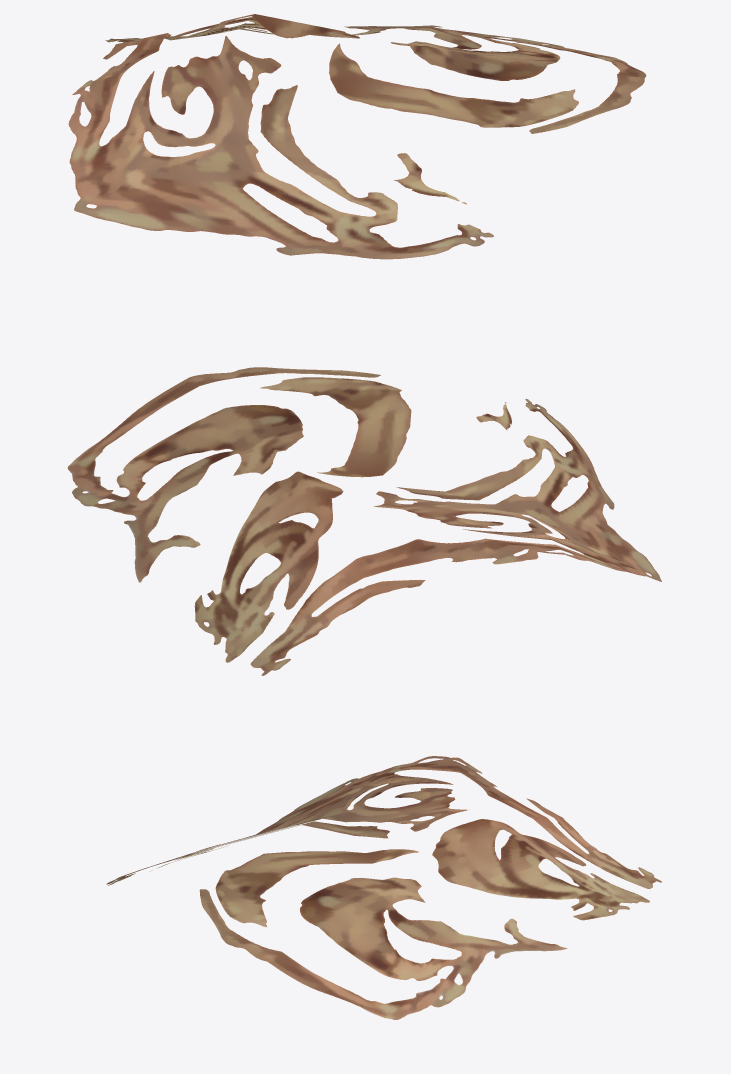
File: lairKvar02.fbx
The picture shows the model from 3 angles, top to bottom: view 1: azimuth 30°, elevation 25°; view 2: azimuth 150°, elevation 25°; view 3: azimuth 270°, elevation 25°; orthographic projection. The views are drawn at different scales.
Parts seen in each view (by area): view 1: lairKvar02_LOD0; view 2: lairKvar02_LOD0; view 3: lairKvar02_LOD0.
Part boxes in pixels (bbox=[...]): lairKvar02_LOD0: bbox=[68, 14, 646, 259]; lairKvar02_LOD0: bbox=[67, 367, 661, 675]; lairKvar02_LOD0: bbox=[106, 756, 661, 1019].
Size of what is drawn, in the model's own units: 0.699 by 0.1114 by 0.7258.
